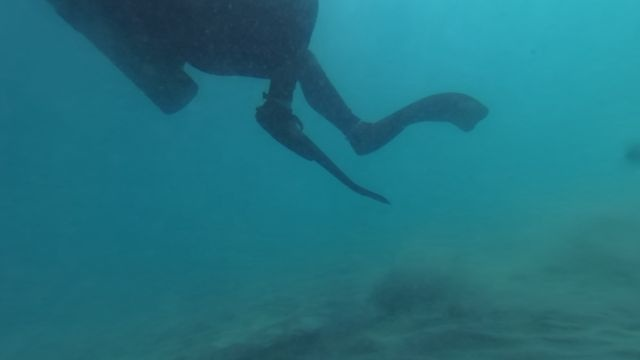Diver: (45, 6, 513, 198)
